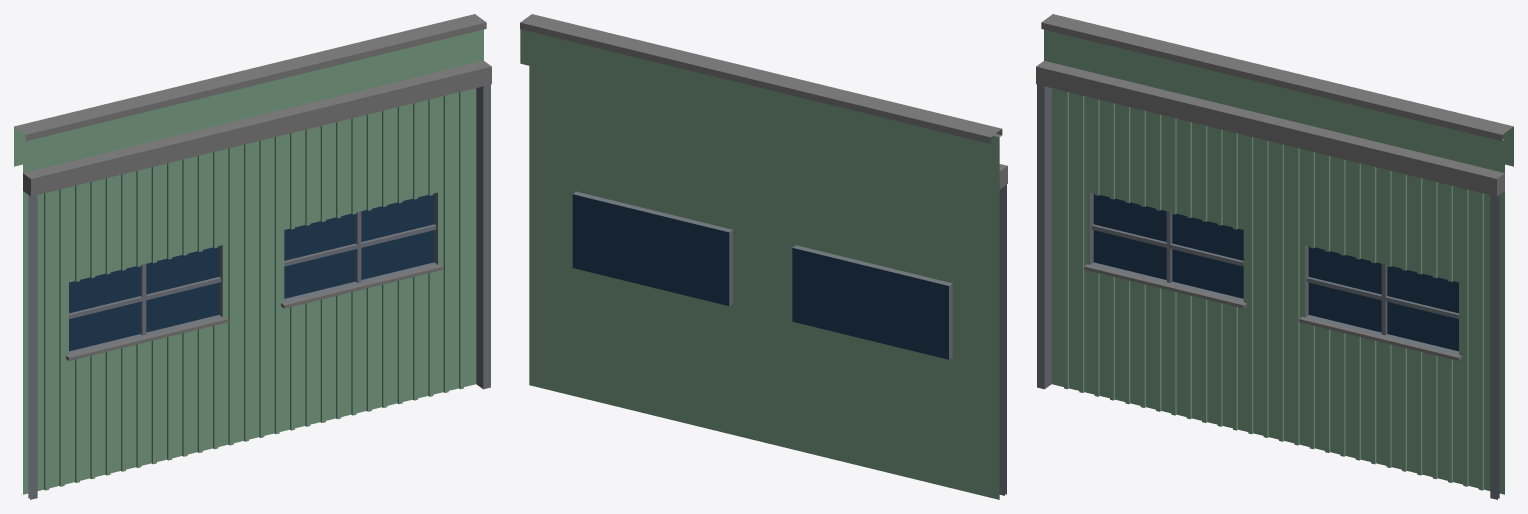
Rendered from top-w1_close.fbx.
3 views of the same model, side by side, from view 1: azimuth 30°, elevation 25°; view 2: azimuth 150°, elevation 25°; view 3: azimuth 330°, elevation 25° (orthographic). The views are drawn at different scales.
Visible parts, largest first — view 1: a2013/500/top-w1_close; view 2: a2013/500/top-w1_close; view 3: a2013/500/top-w1_close.
Part boxes in pixels (x1,y1,x2,y2): a2013/500/top-w1_close: (14, 14, 491, 499); a2013/500/top-w1_close: (520, 14, 1007, 499); a2013/500/top-w1_close: (1036, 14, 1513, 499).
Size of the model in its own units: 6 by 4.5 by 0.381.
